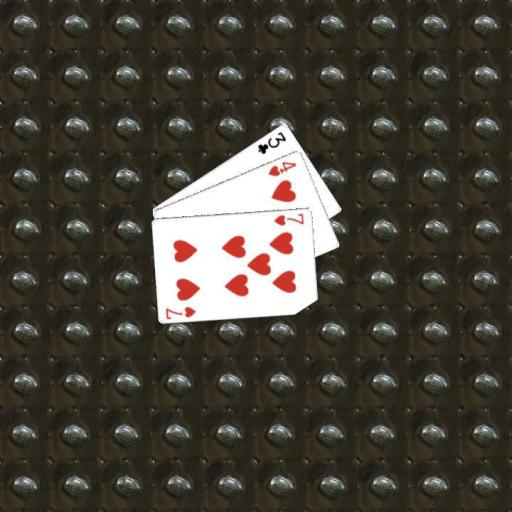3C: (255, 128, 288, 155)
4H: (265, 158, 298, 178)
7H: (271, 210, 306, 227), (163, 303, 197, 320)
